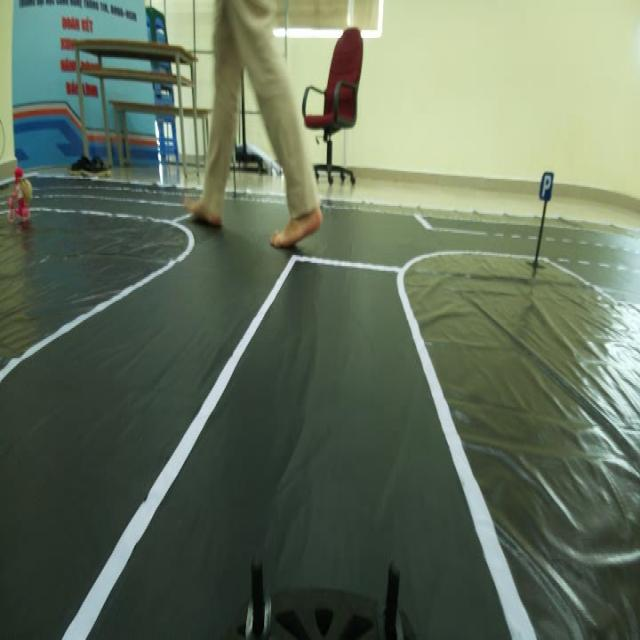parking: (534, 166, 556, 203)
